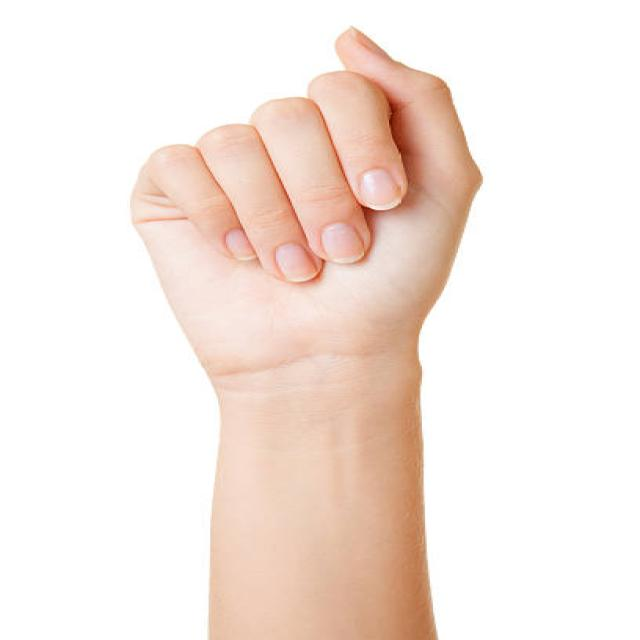Nail: (357, 169, 401, 209), (276, 242, 319, 282), (321, 222, 364, 262), (225, 229, 257, 260)
